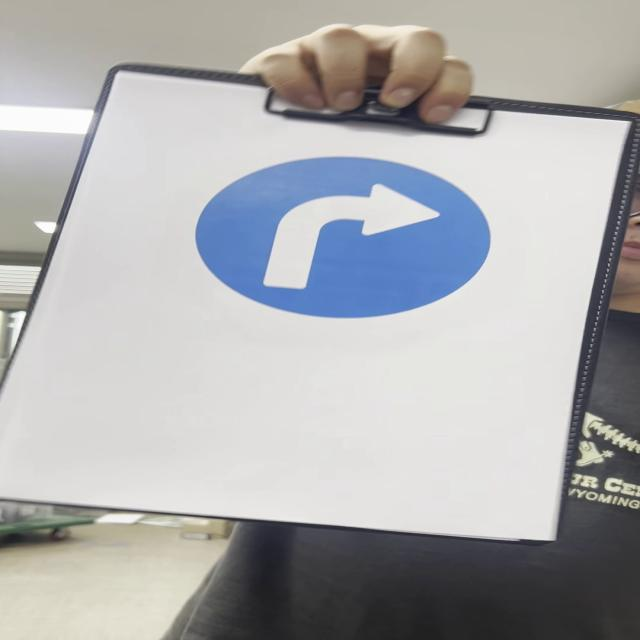right: (191, 159, 494, 322)
